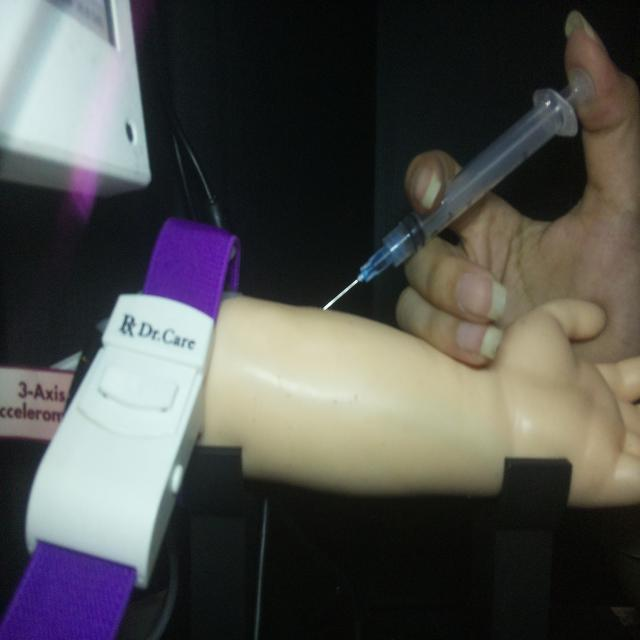28 degrees: (320, 64, 596, 314)
